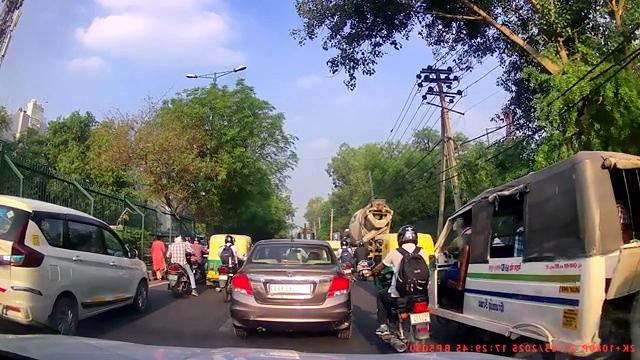motorcycle_with_helmet: (375, 226, 433, 352)
motorcycle_without_helmet: (164, 234, 199, 299)
